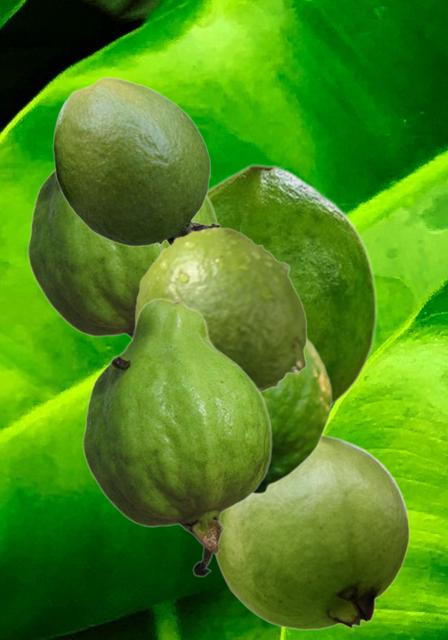guava: (81, 297, 271, 576), (208, 163, 377, 408), (214, 434, 409, 630), (26, 169, 218, 337), (52, 76, 220, 251), (134, 226, 306, 392), (253, 337, 331, 494)
